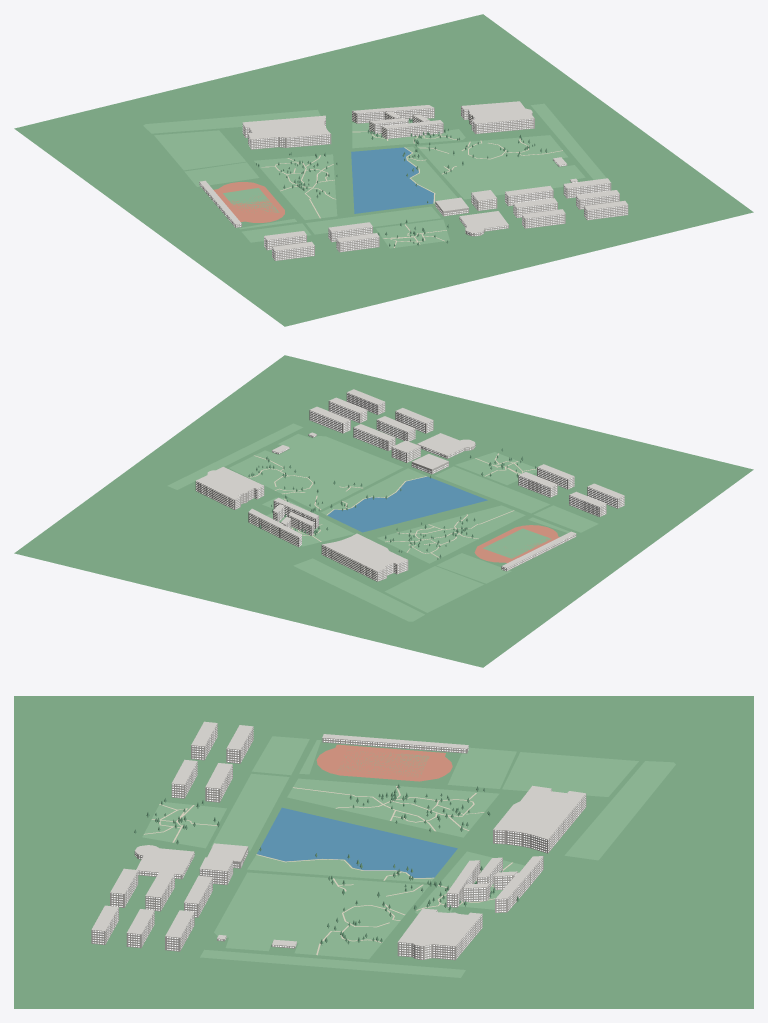
The model's file is campus.glb.
The picture shows the model from 3 angles, top to bottom: view 1: azimuth 30°, elevation 25°; view 2: azimuth 150°, elevation 25°; view 3: azimuth 270°, elevation 25°; orthographic projection. The views are drawn at different scales.
Parts seen in each view (by area): view 1: Env_Base, Ground, Green_03, Water_qinxin, Env_Glow, Green_01, Building_zonghe, Green_04, Building_jx3, Building_jx1, Green_10, Pitch_03 (+21 smaller); view 2: Env_Base, Ground, Green_03, Water_qinxin, Env_Glow, Green_01, Building_zonghe, Green_04, Green_10, Building_jx3, Building_jx1, Green_07 (+21 smaller); view 3: Env_Base, Ground, Green_03, Water_qinxin, Green_01, Env_Glow, Green_04, Building_zonghe, Pitch_03, Green_10, Pitch_00, Building_jx1 (+23 smaller).
Part boxes in pixels (left/top/right/bottom): Env_Base: left=14, top=14, right=753, bottom=326; Ground: left=132, top=89, right=642, bottom=266; Green_03: left=417, top=135, right=585, bottom=199; Water_qinxin: left=351, top=147, right=433, bottom=213; Env_Glow: left=199, top=107, right=627, bottom=260; Green_01: left=254, top=154, right=337, bottom=219; Building_zonghe: left=242, top=115, right=331, bottom=149; Green_04: left=154, top=130, right=245, bottom=170; Building_jx3: left=352, top=105, right=443, bottom=138; Building_jx1: left=461, top=101, right=534, bottom=134; Green_10: left=143, top=109, right=320, bottom=133; Pitch_03: left=213, top=182, right=284, bottom=222; Env_Base: left=14, top=355, right=753, bottom=667; Ground: left=144, top=395, right=645, bottom=627; Green_03: left=229, top=434, right=403, bottom=511; Water_qinxin: left=327, top=476, right=487, bottom=532; Env_Glow: left=196, top=393, right=624, bottom=580; Green_01: left=377, top=505, right=525, bottom=563; Building_zonghe: left=321, top=533, right=408, bottom=581; Green_04: left=385, top=566, right=483, bottom=612; Green_10: left=293, top=558, right=424, bottom=621; Building_jx3: left=248, top=497, right=318, bottom=547; Building_jx1: left=195, top=467, right=264, bottom=509; Green_07: left=434, top=466, right=549, bottom=513; Env_Base: left=14, top=696, right=753, bottom=1008; Ground: left=77, top=722, right=690, bottom=982; Green_03: left=214, top=872, right=429, bottom=959; Water_qinxin: left=257, top=807, right=457, bottom=877; Green_01: left=287, top=778, right=499, bottom=837; Env_Glow: left=92, top=726, right=585, bottom=959; Green_04: left=502, top=752, right=638, bottom=796; Building_zonghe: left=493, top=785, right=586, bottom=853; Pitch_03: left=316, top=744, right=452, bottom=781; Green_10: left=564, top=761, right=675, bottom=860; Pitch_00: left=229, top=877, right=329, bottom=926; Building_jx1: left=397, top=908, right=482, bottom=960.
Size of the model in its own units: 947 by 20.15 by 947.
